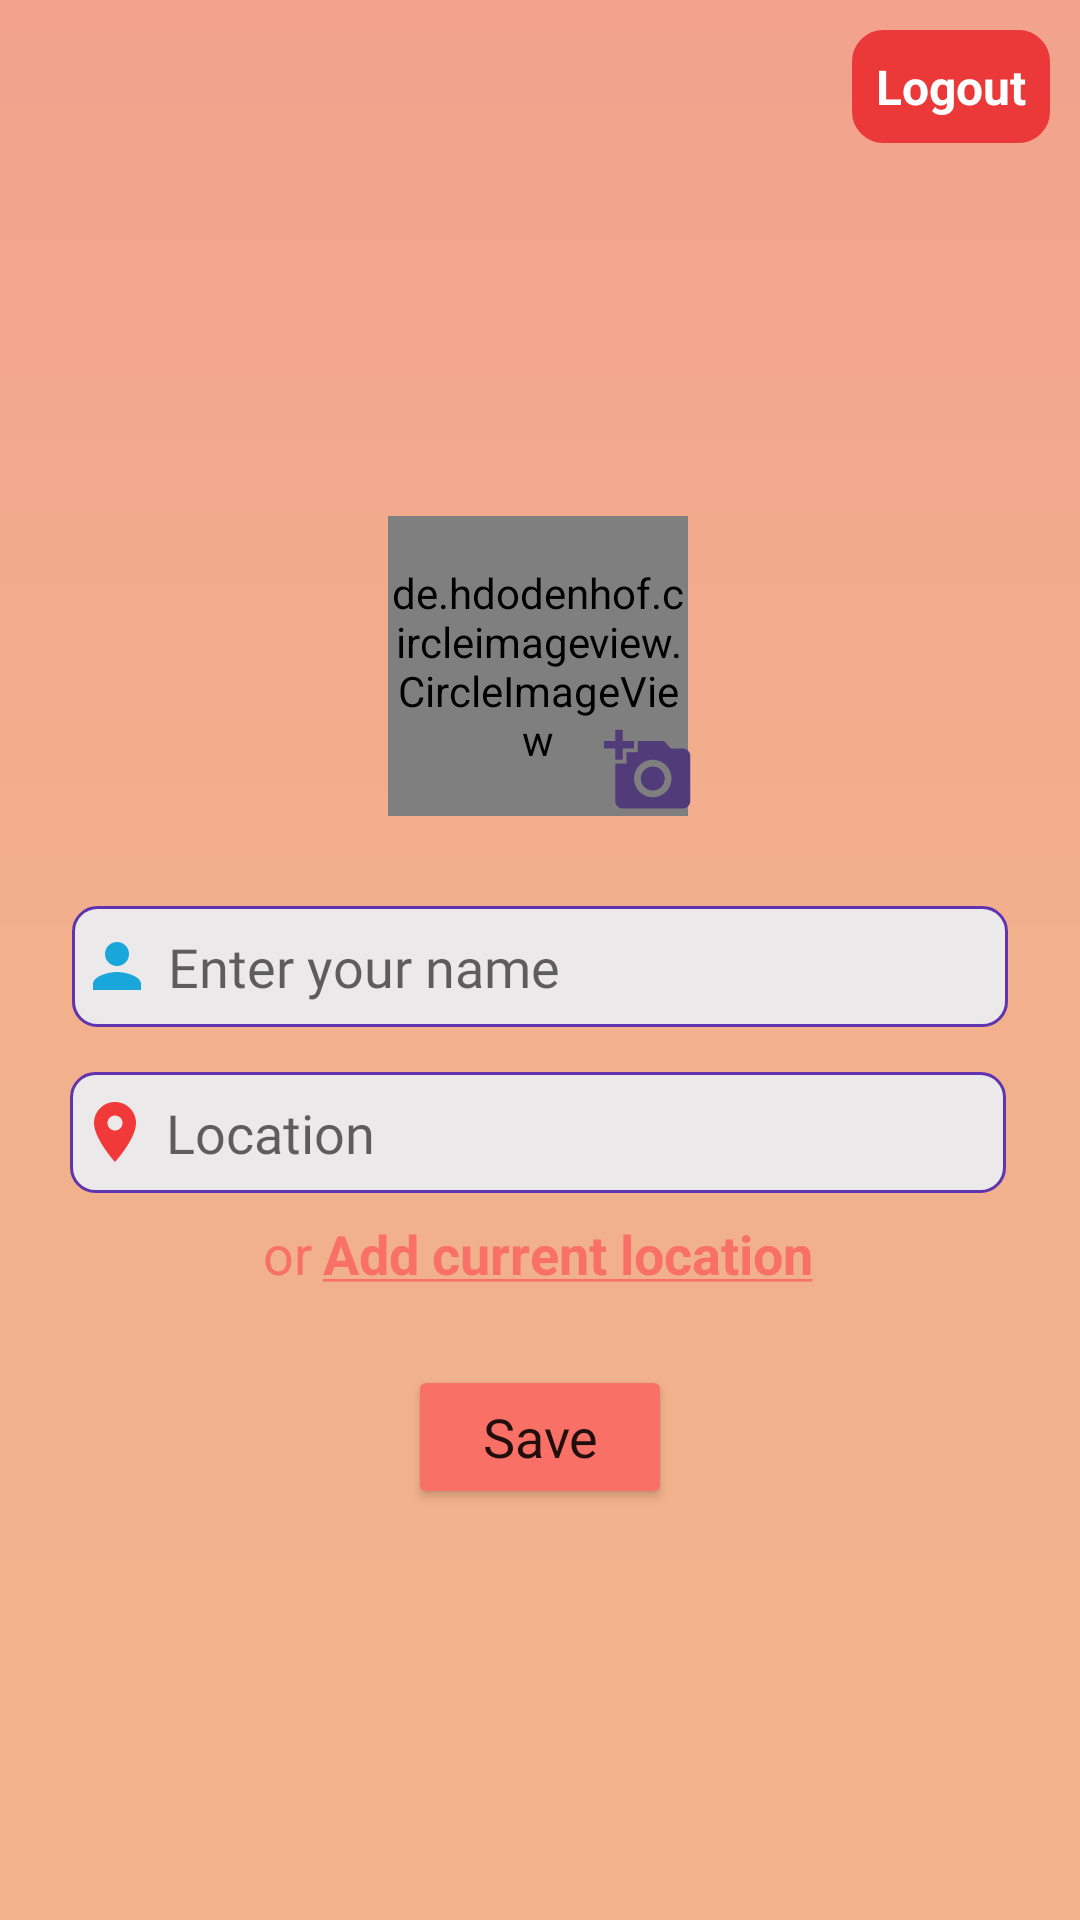

Screen size 1080px x 1920px. Icon name, then its center in pixels as point (x, y):
add profile pic: point (649, 771)
